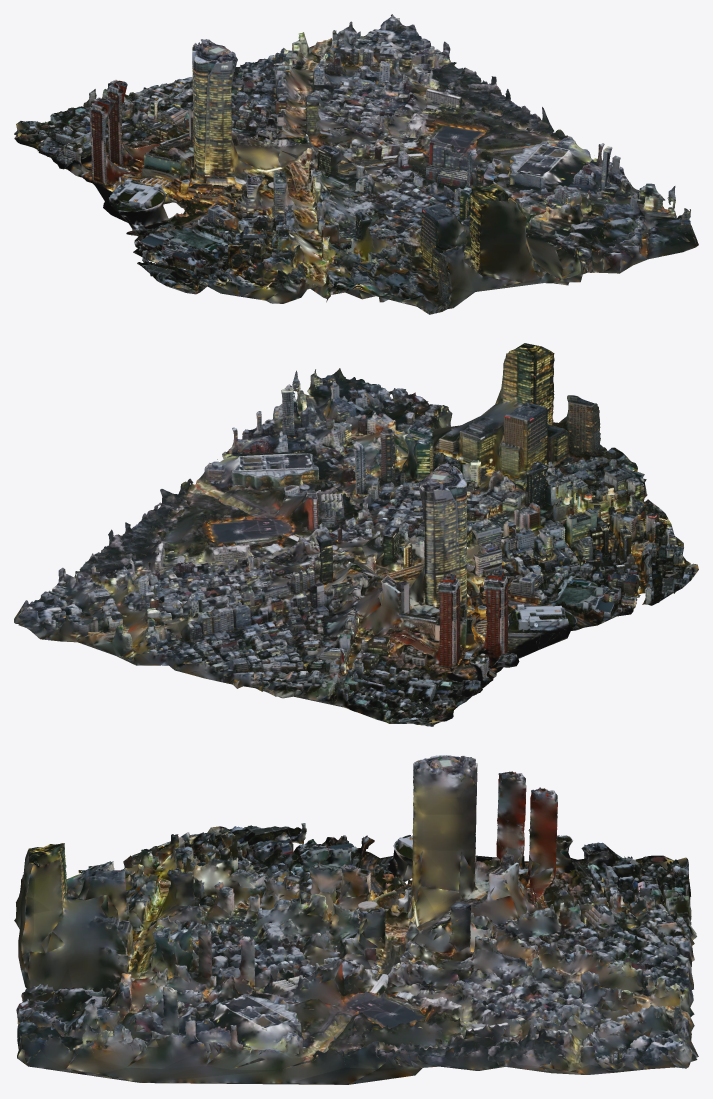
Rendered from osaka-hi.glb.
3 views of the same model, one above another, from view 1: azimuth 30°, elevation 25°; view 2: azimuth 150°, elevation 25°; view 3: azimuth 270°, elevation 25° (orthographic). The views are drawn at different scales.
Visible parts, largest first — view 1: meshNode_Material_u1_v1_0; view 2: meshNode_Material_u1_v1_0; view 3: meshNode_Material_u1_v1_0.
Part boxes in pixels (x1=…): meshNode_Material_u1_v1_0: x1=14, y1=14, x2=698, y2=314; meshNode_Material_u1_v1_0: x1=14, y1=343, x2=698, y2=726; meshNode_Material_u1_v1_0: x1=14, y1=755, x2=698, y2=1084.
Size of the model in its own units: 49.04 by 16.78 by 58.84.
Materials: 1 (1 with a texture image).
